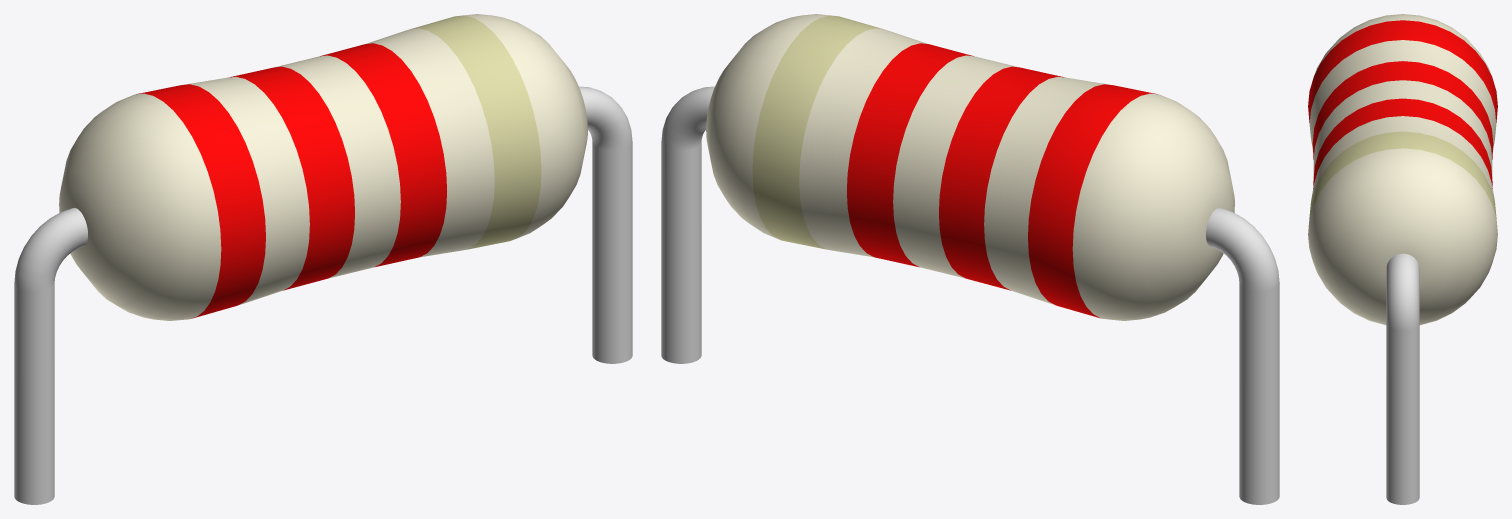
File: Axial0_4_2.2K.fbx
The picture shows the model from 3 angles, left to right: view 1: azimuth 30°, elevation 25°; view 2: azimuth 150°, elevation 25°; view 3: azimuth 270°, elevation 25°; orthographic projection. The views are drawn at different scales.
Visible parts, largest first — view 1: Axial0_4_1K; view 2: Axial0_4_1K; view 3: Axial0_4_1K.
Part boxes in pixels (x1,y1,x2,y2): Axial0_4_1K: (14,14,632,504); Axial0_4_1K: (661,14,1279,504); Axial0_4_1K: (1308,14,1497,504).
Bounding box in the file's own units: 1.07 × 0.6072 × 0.3507.
